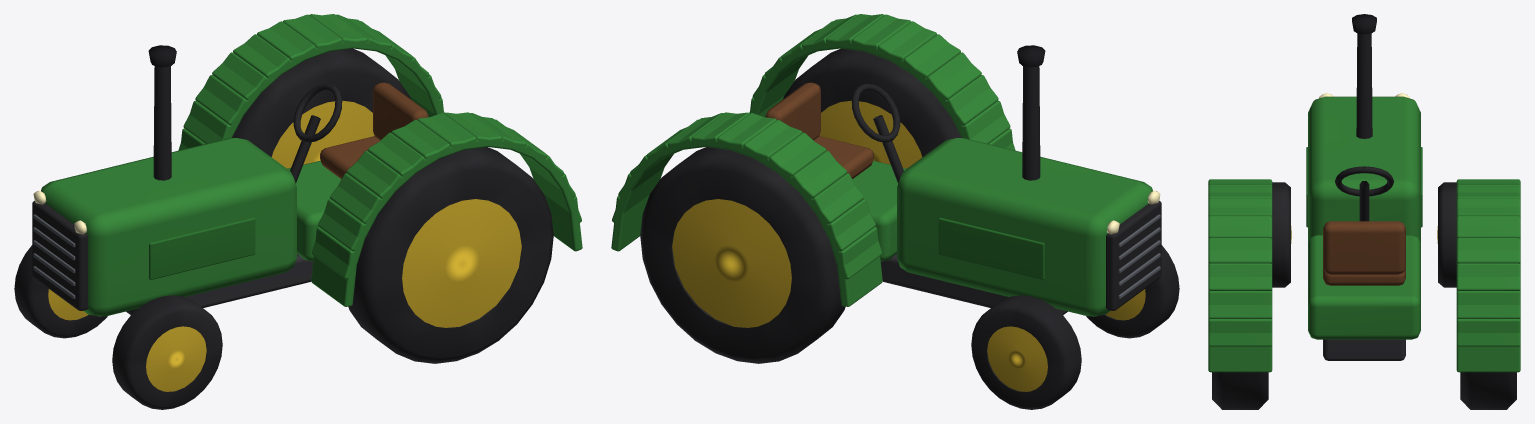
File: furn_tractor.glb
The picture shows the model from 3 angles, left to right: view 1: azimuth 30°, elevation 25°; view 2: azimuth 150°, elevation 25°; view 3: azimuth 270°, elevation 25°; orthographic projection. The views are drawn at different scales.
Visible parts, largest first — view 1: furn_tractor_main; view 2: furn_tractor_main; view 3: furn_tractor_main.
Part boxes in pixels (x1,y1,x2,y2): furn_tractor_main: (14,14,582,409); furn_tractor_main: (611,14,1179,409); furn_tractor_main: (1208,14,1520,409).
Size of the model in its own units: 2.53 by 1.67 by 1.66.
